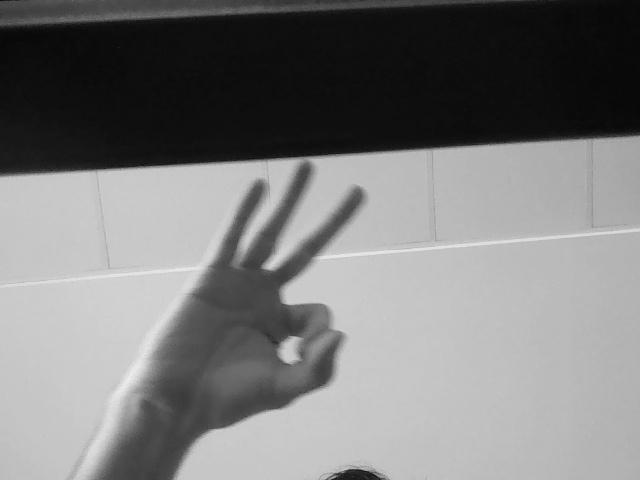OK: (182, 182, 366, 408)
